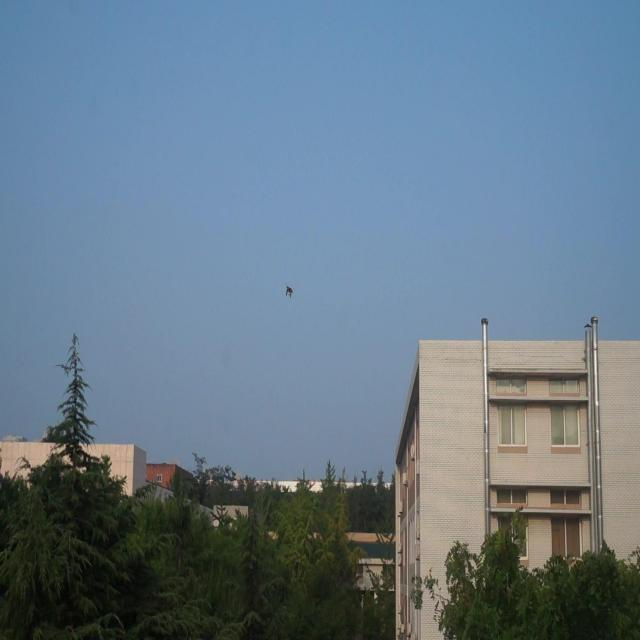UAV: (286, 282, 294, 298)
